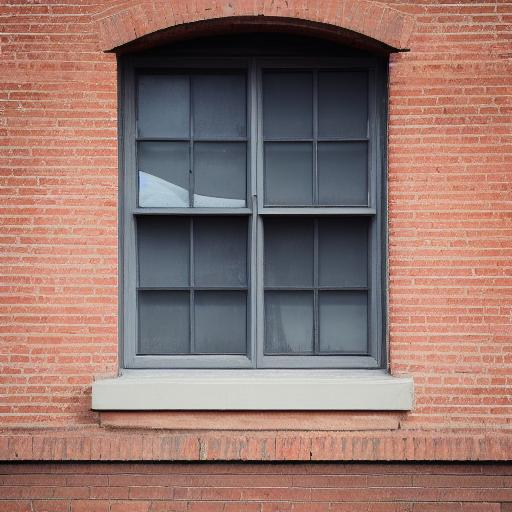Window: (88, 2, 421, 433)
